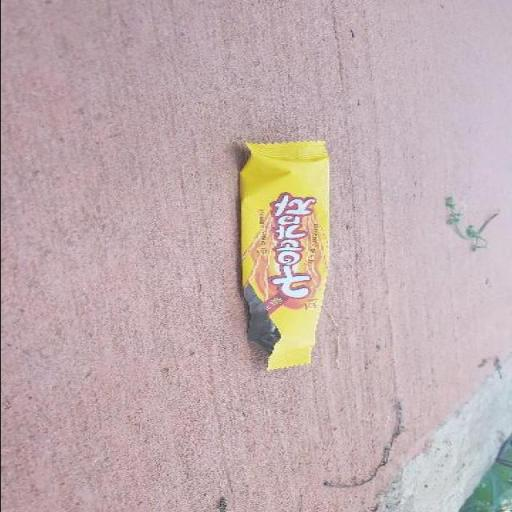plastic-bag: (232, 139, 332, 371)
